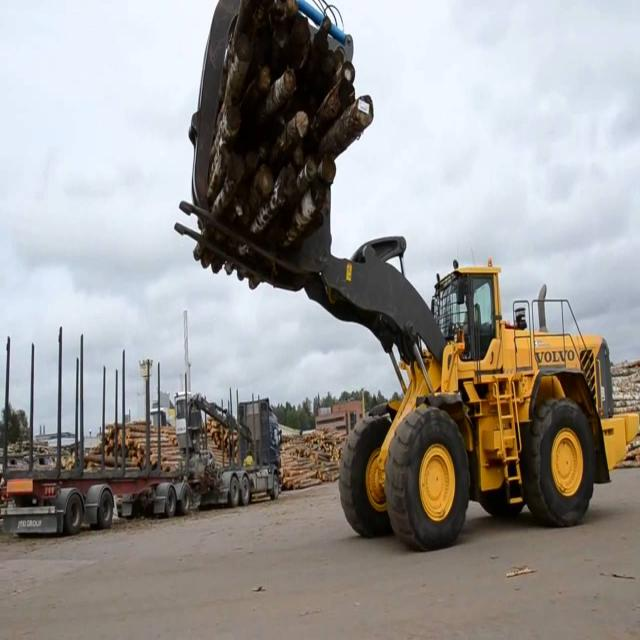buldozerpayloadergrader: (341, 239, 638, 534)
